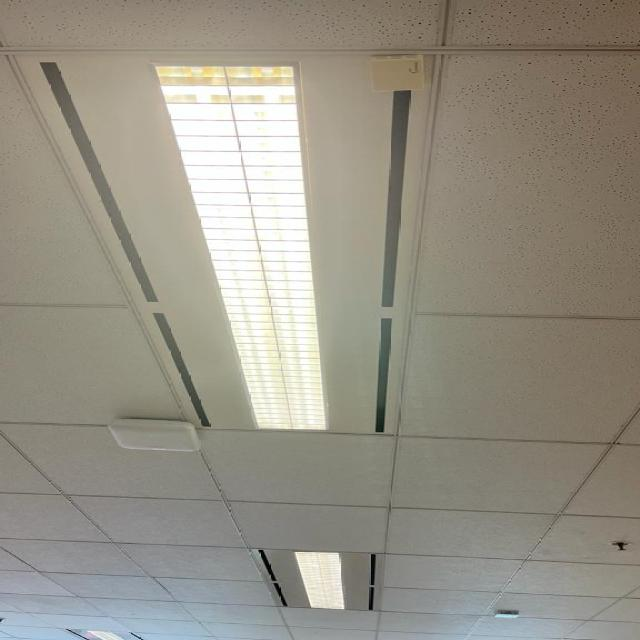Light-Opened: (6, 48, 438, 431), (251, 547, 378, 611)
